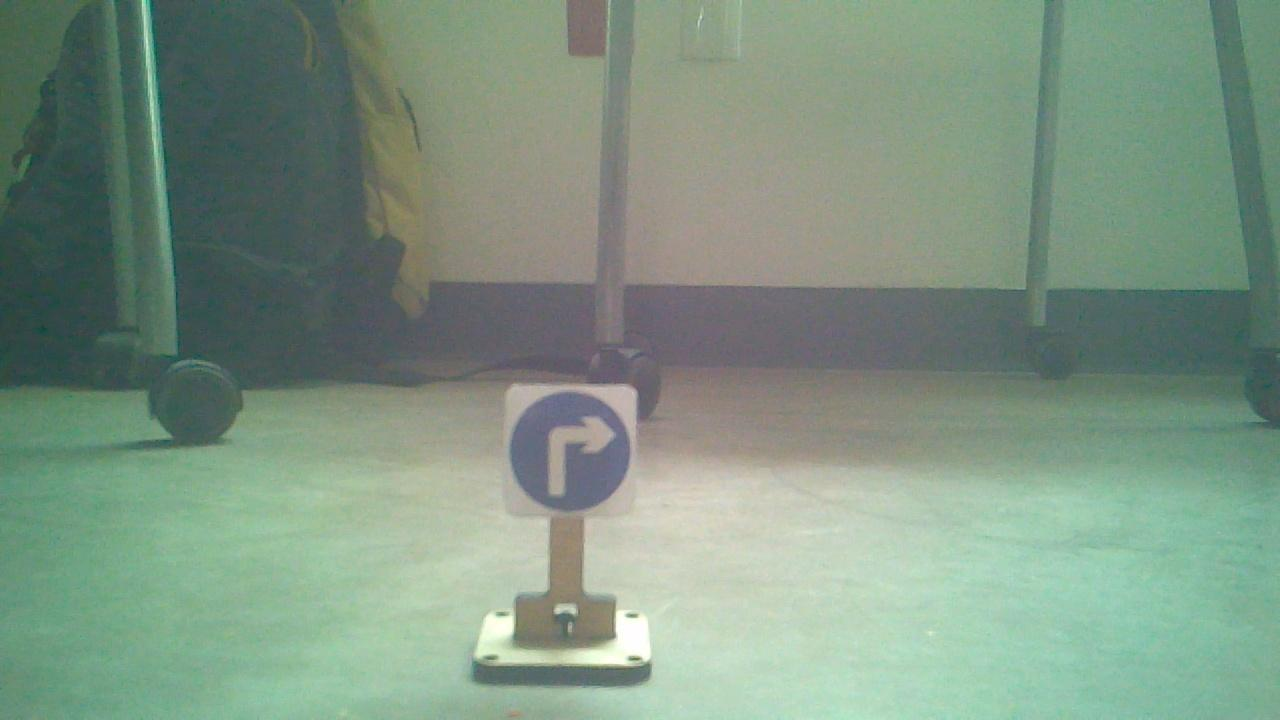turn: (507, 390, 634, 517)
